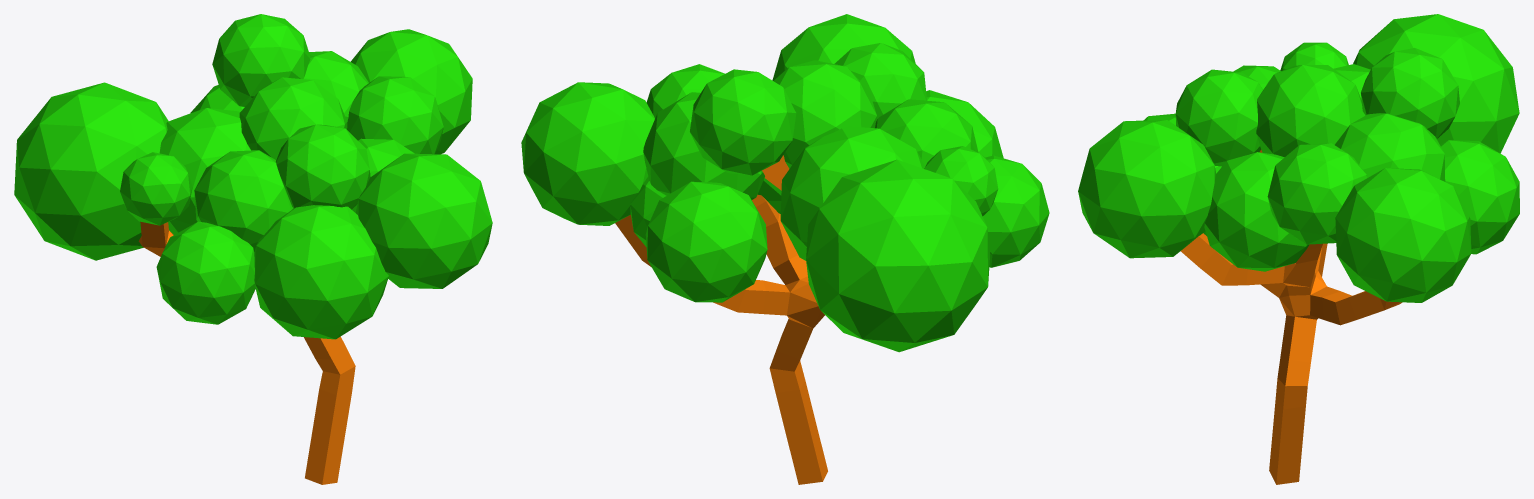
The model's file is treeeeeeee.fbx.
The picture shows the model from 3 angles, left to right: view 1: azimuth 30°, elevation 25°; view 2: azimuth 150°, elevation 25°; view 3: azimuth 270°, elevation 25°; orthographic projection. The views are drawn at different scales.
Parts seen in each view (by area): view 1: Cube; view 2: Cube; view 3: Cube.
Part boxes in pixels (x1,y1,x2,y2): Cube: [14, 14, 492, 484]; Cube: [521, 14, 1049, 484]; Cube: [1078, 14, 1519, 484].
Size of the model in its own units: 1046 by 984 by 923.
